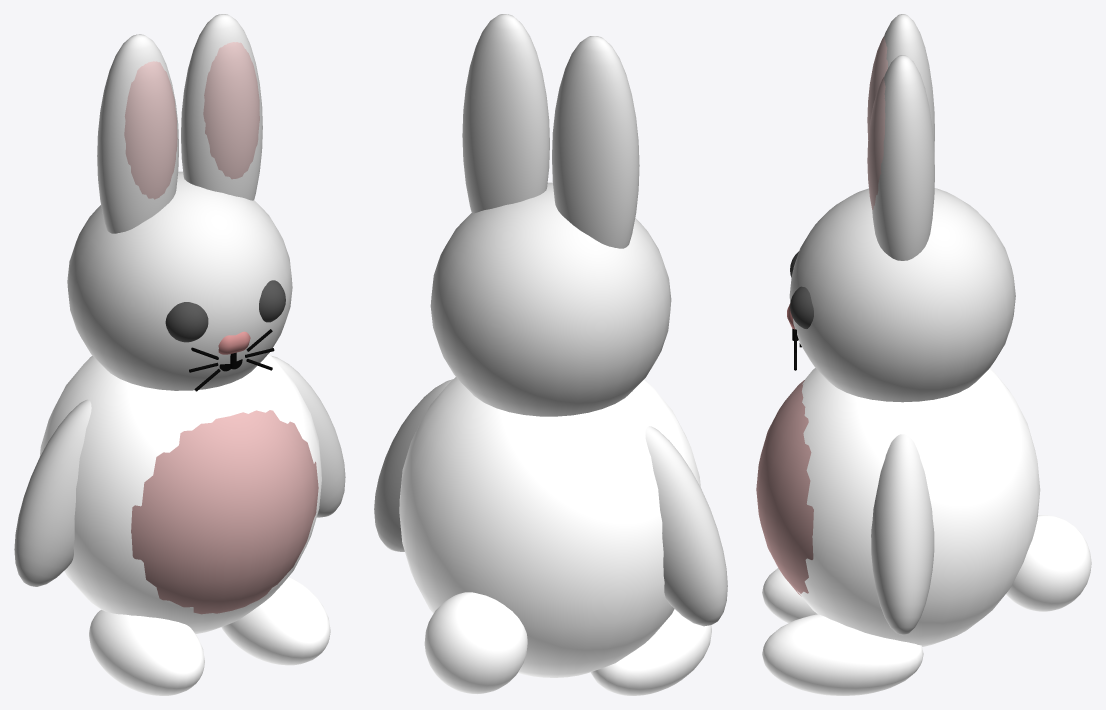
3 renders of one model, left to right at view 1: azimuth 30°, elevation 25°; view 2: azimuth 150°, elevation 25°; view 3: azimuth 270°, elevation 25°, orthographic. The views are drawn at different scales.
Visible parts, largest first — view 1: Sphere (×3), Sphere_5, Sphere_3, Sphere_10, Sphere_2, Sphere_7, Sphere_6, Sphere_1, Sphere_11, Sphere_8, Sphere_9, Capsule; view 2: Sphere, Sphere_5, Sphere_7, Sphere_6, Sphere_10, Sphere_4, Sphere_2, Sphere_11; view 3: Sphere (×3), Sphere_5, Sphere_6, Sphere_11, Sphere_1, Sphere_3, Sphere_4, Sphere_7, Sphere_2, Sphere_9.
Part boxes in pixels (x1=…): Sphere (×3): x1=39, y1=42, x2=321, y2=633; Sphere_5: x1=67, y1=171, x2=292, y2=390; Sphere_3: x1=131, y1=410, x2=318, y2=614; Sphere_10: x1=14, y1=399, x2=91, y2=586; Sphere_2: x1=89, y1=610, x2=204, y2=695; Sphere_7: x1=97, y1=34, x2=178, y2=233; Sphere_6: x1=181, y1=14, x2=262, y2=200; Sphere_1: x1=221, y1=577, x2=330, y2=665; Sphere_11: x1=272, y1=356, x2=345, y2=517; Sphere_8: x1=165, y1=302, x2=208, y2=342; Sphere_9: x1=259, y1=280, x2=285, y2=322; Capsule: x1=218, y1=331, x2=250, y2=354; Sphere: x1=399, y1=377, x2=700, y2=677; Sphere_5: x1=430, y1=182, x2=671, y2=416; Sphere_7: x1=552, y1=36, x2=639, y2=248; Sphere_6: x1=462, y1=14, x2=549, y2=213; Sphere_10: x1=645, y1=426, x2=727, y2=626; Sphere_4: x1=424, y1=592, x2=527, y2=694; Sphere_2: x1=591, y1=609, x2=711, y2=695; Sphere_11: x1=374, y1=379, x2=453, y2=551; Sphere (×3): x1=797, y1=36, x2=1040, y2=646; Sphere_5: x1=789, y1=188, x2=1015, y2=402; Sphere_6: x1=872, y1=55, x2=934, y2=260; Sphere_11: x1=871, y1=434, x2=934, y2=635; Sphere_1: x1=762, y1=614, x2=923, y2=695; Sphere_3: x1=756, y1=380, x2=813, y2=596; Sphere_4: x1=1006, y1=515, x2=1091, y2=611; Sphere_7: x1=884, y1=14, x2=934, y2=151; Sphere_2: x1=762, y1=568, x2=817, y2=623; Sphere_9: x1=790, y1=286, x2=813, y2=328.
Size of the model in its own units: 2.33 by 4.26 by 2.07.
